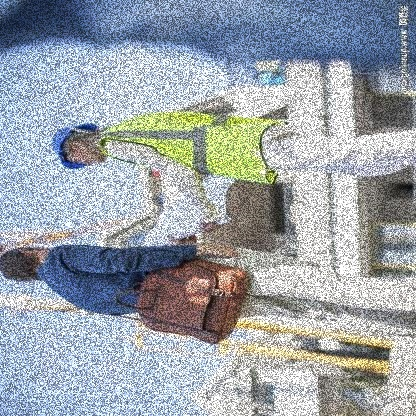blue: (47, 117, 103, 171)
vest: (98, 107, 285, 191)
